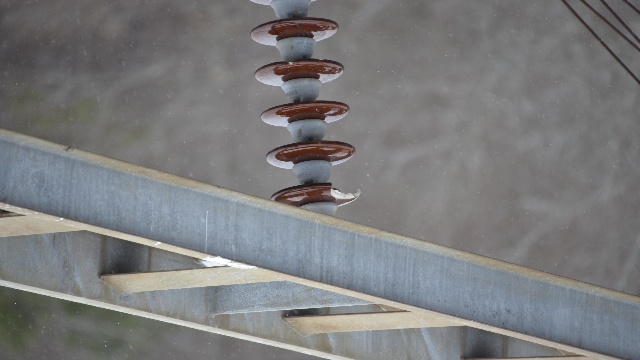broken_local: (328, 182, 364, 203)
insulator_unspecified: (243, 0, 362, 208)
